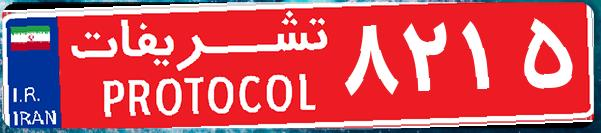1: (460, 20, 520, 115)
2: (400, 20, 460, 115)
5: (520, 20, 580, 115)
8: (340, 20, 400, 115)
تشریفات: (60, 8, 340, 125)
